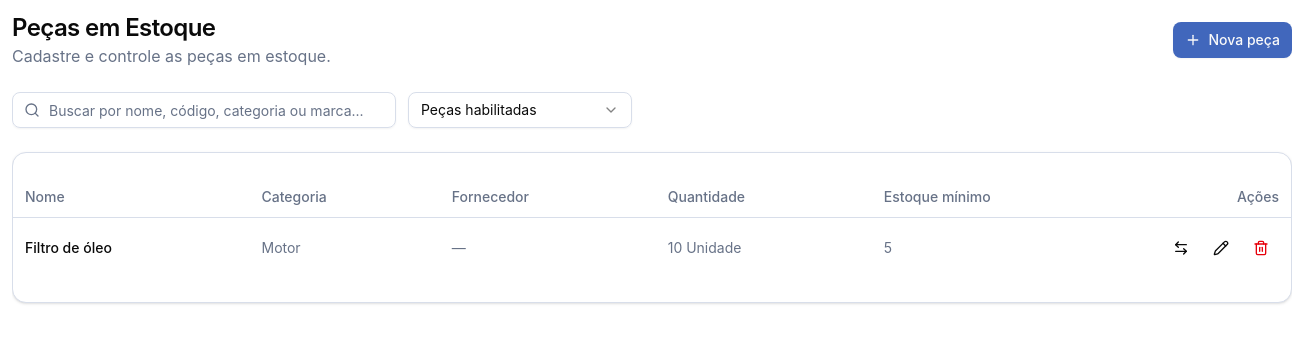
Test: PartsPage › shows a distinct empty state for a search with no results
Expected: the text "Filtro de óleo" is shown, [13,217,250,278]
Type "zzz" into the field with placeholder "Buscar por nome, código, categoria ou marca...".
click(204, 110); type("zzz")  # box [12,92,396,128]
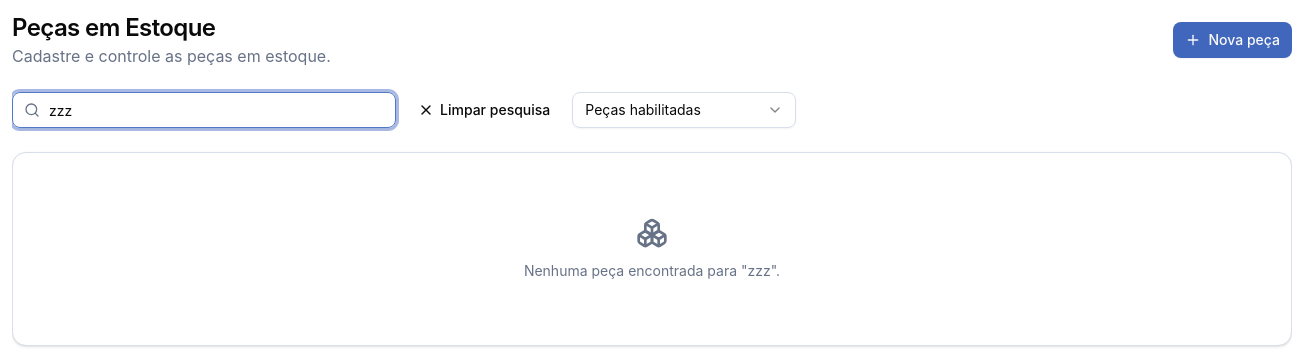
Expected: the text "Nenhuma peça encontrada para \"zzz\"." is shown, [524,261,780,281]
